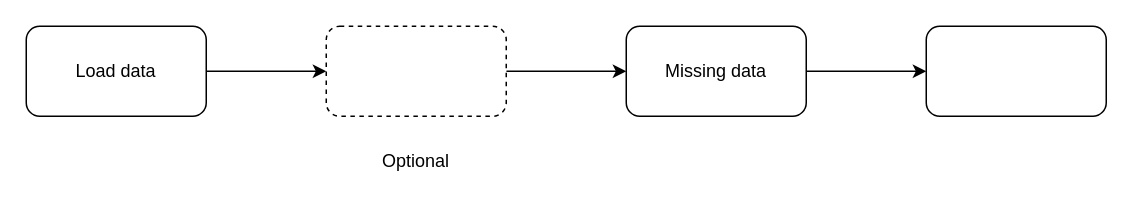
Some shapes in this 1133 by 218 pixel diagram are drawn without their labels. Here are the shapes that lost their labels. From the top down, the centre of each, then its label:
the point at 415,70: Impute LOD
the point at 1015,70: Impute with mice
